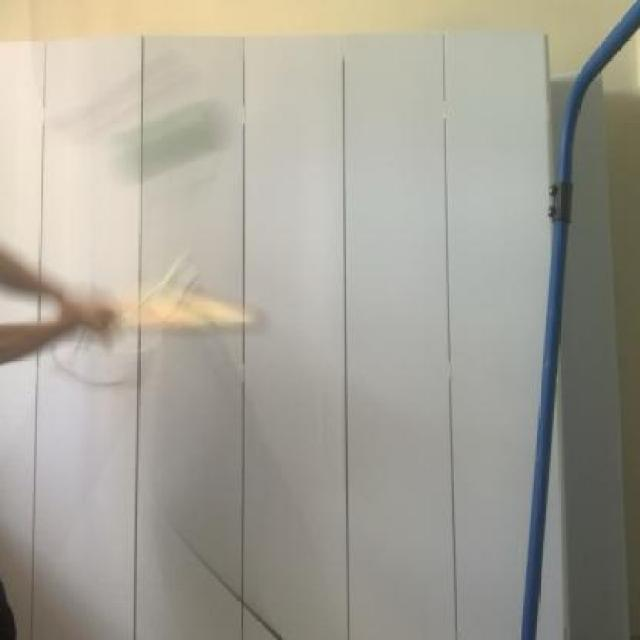baseball: (92, 70, 232, 187)
